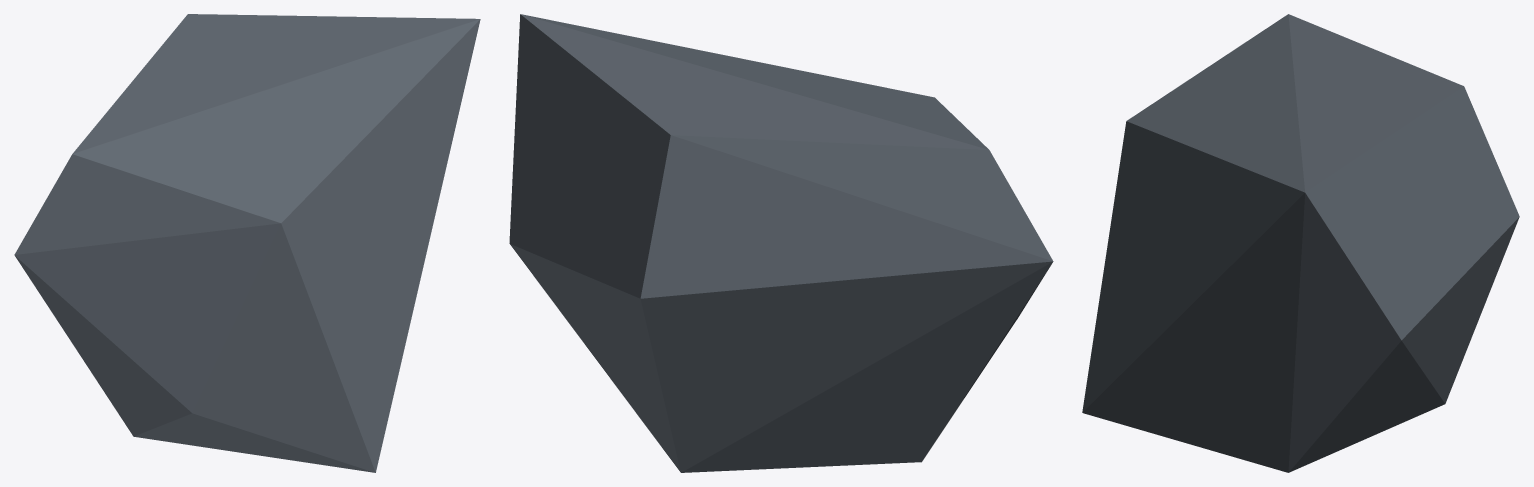
The model's file is Rock-B13.fbx.
The picture shows the model from 3 angles, left to right: view 1: azimuth 30°, elevation 25°; view 2: azimuth 150°, elevation 25°; view 3: azimuth 270°, elevation 25°; orthographic projection. The views are drawn at different scales.
Visible parts, largest first — view 1: Rock-B13; view 2: Rock-B13; view 3: Rock-B13.
Boxes of the visible parts, left/top/right/bottom form: Rock-B13: left=14, top=14, right=480, bottom=472; Rock-B13: left=509, top=14, right=1053, bottom=472; Rock-B13: left=1082, top=14, right=1519, bottom=472.
Bounding box in the file's own units: 56.97 × 37.4 × 44.75.
